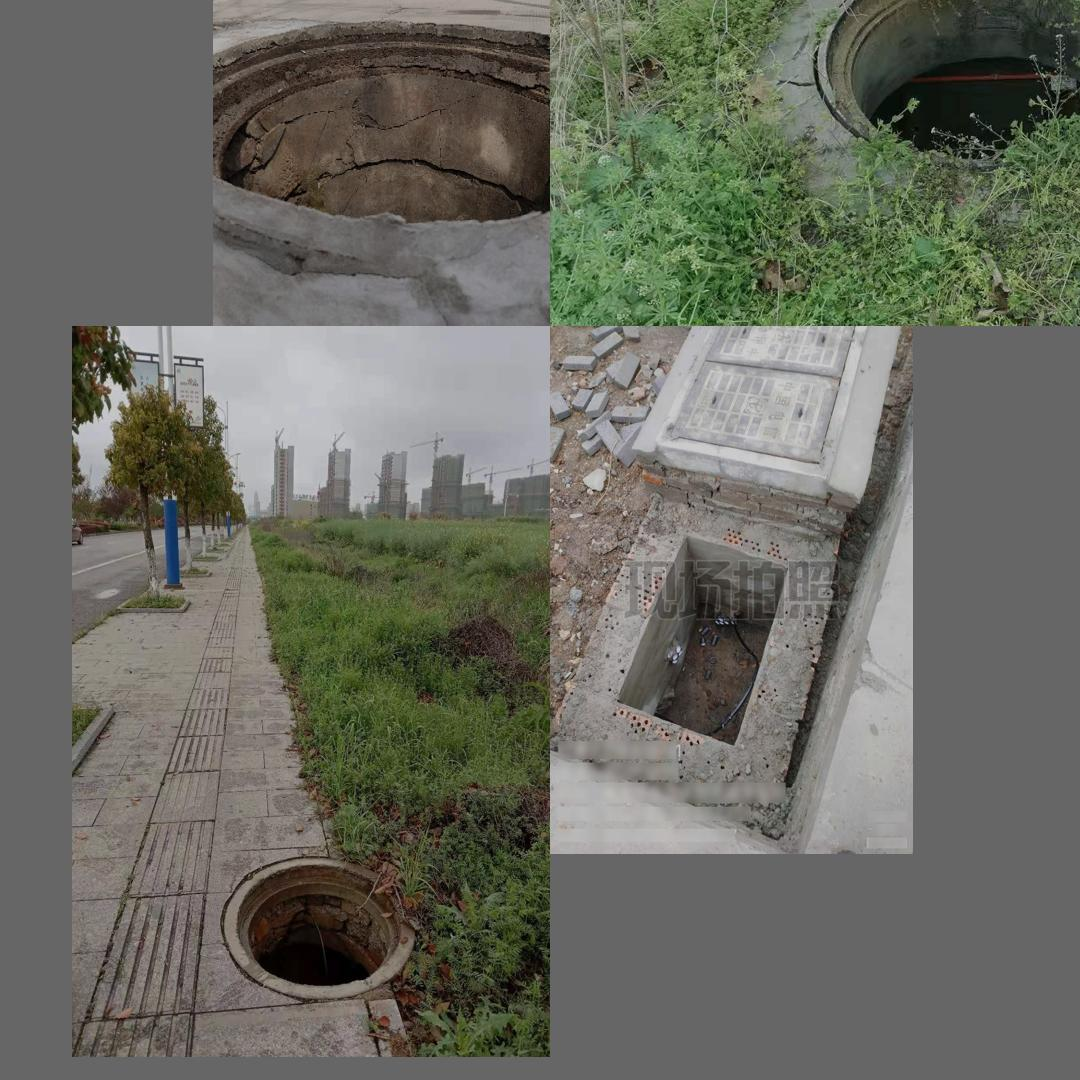good: (658, 327, 867, 477)
lose: (213, 0, 548, 250), (816, 0, 1080, 168), (613, 532, 787, 746), (223, 856, 416, 998)
